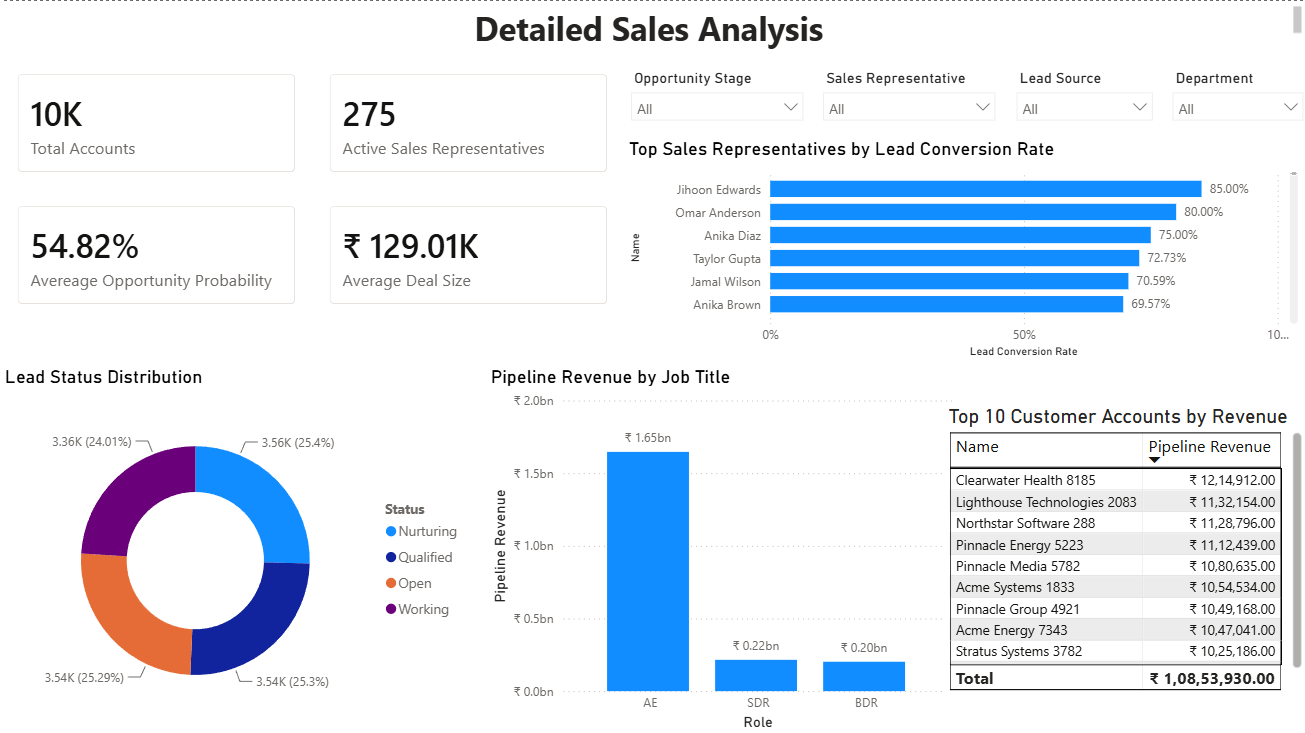

This screenshot's page, from the dashboard's own definition file:
{"tool":"powerbi","page":{"name":"Detailed Sales Analysis","canvas":[1280,720],"ordinal":1},"visuals":[{"type":"group","id":"g1","title":"Group 2","box":[0,55.1,1287.7,665.5],"z":0},{"type":"cardVisual","fields":{"Data":["DAX Measures.Total Accounts"]},"box":[0,55.1,306.1,130.1],"z":0,"group":"g2"},{"type":"donutChart","title":"Lead Status Distribution","fields":{"Category":["lead.status"],"Y":["CountNonNull(lead.lead_id)"]},"box":[0,358.7,462.3,361.9],"z":0,"group":"g1"},{"type":"textbox","box":[-0.4,0,1280.8,55.1],"z":1000},{"type":"cardVisual","fields":{"Data":["DAX Measures.Active Sales Representatives"]},"box":[306.1,55.1,306.1,130.1],"z":1000,"group":"g2"},{"type":"clusteredBarChart","title":"Top Sales Representatives by Lead Conversion Rate","fields":{"Category":["user.name"],"Y":["DAX Measures.Lead Conversion Rate"]},"box":[612.1,134.4,665.5,220.2],"z":1000,"group":"g1"},{"type":"group","id":"g2","title":"Group 1","box":[0,55.1,612.1,260.2],"z":2000,"group":"g1"},{"type":"cardVisual","fields":{"Data":["DAX Measures.Avereage Opportunity Probability"]},"box":[0,185.2,306.1,130.1],"z":2000,"group":"g2"},{"type":"cardVisual","fields":{"Data":["DAX Measures.Average Deal Size"]},"box":[306.1,185.2,306.1,130.1],"z":3000,"group":"g2"},{"type":"clusteredColumnChart","title":"Pipeline Revenue by Job Title","fields":{"Y":["DAX Measures.Pipeline Revenue"],"Category":["user.role"]},"box":[477,358.7,462.3,361.9],"z":4000,"group":"g1"},{"type":"tableEx","title":"Top 10 Customer Accounts by Revenue","fields":{"Values":["account.name","DAX Measures.Pipeline Revenue"]},"box":[924.6,396.7,356.2,285],"z":5000,"group":"g1"},{"type":"slicer","fields":{"Values":["user.department"]},"box":[1139.6,62.6,148.1,56.8],"z":6000,"group":"g1"},{"type":"slicer","fields":{"Values":["opportunity.lead_source"]},"box":[986.5,62.6,153,55.3],"z":7000,"group":"g1"},{"type":"slicer","fields":{"Values":["opportunity.stage_name"]},"box":[608.9,62.6,188.8,58.3],"z":8000,"group":"g1"},{"type":"slicer","fields":{"Values":["user.name"]},"box":[797.7,62.6,188.8,56.8],"z":9000,"group":"g1"}]}

Visuals, with their boxes in screenshot pixels (x1, y1, x2, y2), scaled from the page's 1280x720 canvas onto the 1305x733 screenshot:
"Group 2" group: x1=0, y1=56, x2=1304, y2=732
cardVisual - DAX Measures.Total Accounts: x1=0, y1=56, x2=312, y2=189
"Lead Status Distribution" donutChart: x1=0, y1=365, x2=471, y2=732
textbox: x1=0, y1=0, x2=1304, y2=56
cardVisual - DAX Measures.Active Sales Representatives: x1=312, y1=56, x2=624, y2=189
"Top Sales Representatives by Lead Conversion Rate" clusteredBarChart: x1=624, y1=137, x2=1303, y2=361
"Group 1" group: x1=0, y1=56, x2=624, y2=321
cardVisual - DAX Measures.Avereage Opportunity Probability: x1=0, y1=189, x2=312, y2=321
cardVisual - DAX Measures.Average Deal Size: x1=312, y1=189, x2=624, y2=321
"Pipeline Revenue by Job Title" clusteredColumnChart: x1=486, y1=365, x2=958, y2=732
"Top 10 Customer Accounts by Revenue" tableEx: x1=943, y1=404, x2=1304, y2=694
slicer - user.department: x1=1162, y1=64, x2=1304, y2=122
slicer - opportunity.lead_source: x1=1006, y1=64, x2=1162, y2=120
slicer - opportunity.stage_name: x1=621, y1=64, x2=813, y2=123
slicer - user.name: x1=813, y1=64, x2=1006, y2=122
